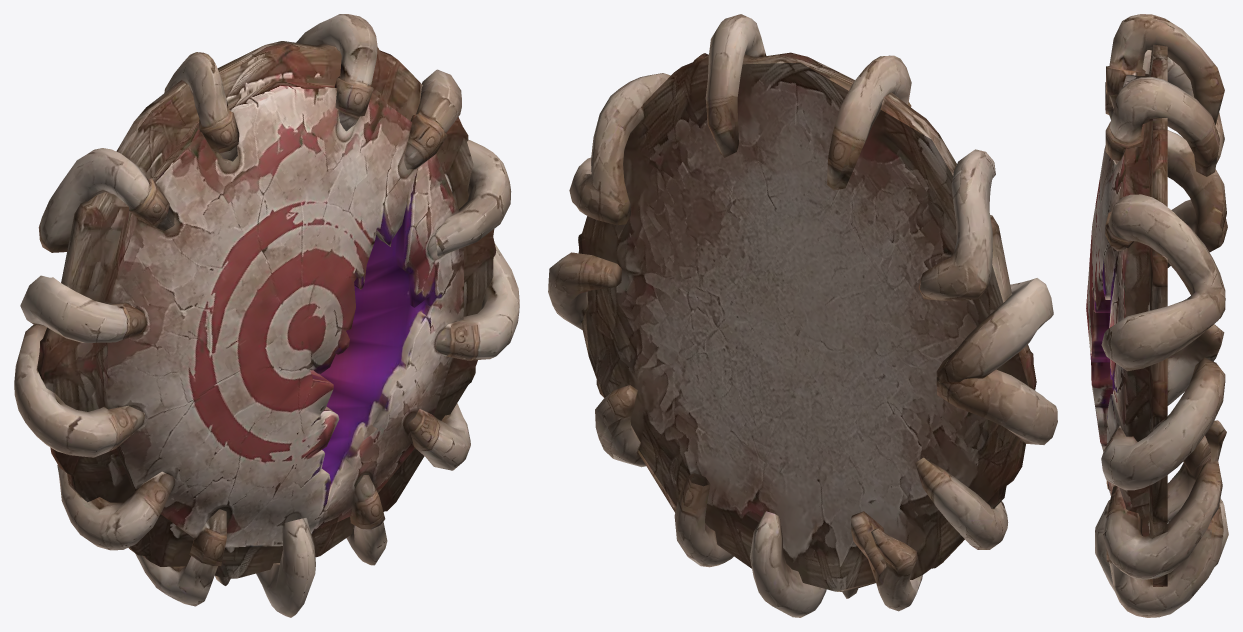
File: SM_Prop_KuiBrokenDrum.glb
3 views of the same model, side by side, from view 1: azimuth 30°, elevation 25°; view 2: azimuth 150°, elevation 25°; view 3: azimuth 270°, elevation 25° (orthographic). The views are drawn at different scales.
Visible parts, largest first — view 1: SM_Prop_KuiBrokenDrum_LOD0; view 2: SM_Prop_KuiBrokenDrum_LOD0; view 3: SM_Prop_KuiBrokenDrum_LOD0.
Boxes of the visible parts, x1=… form: SM_Prop_KuiBrokenDrum_LOD0: x1=14, y1=14, x2=519, y2=617; SM_Prop_KuiBrokenDrum_LOD0: x1=548, y1=14, x2=1057, y2=617; SM_Prop_KuiBrokenDrum_LOD0: x1=1086, y1=14, x2=1228, y2=617.
Size of what is drawn, in the model's own units: 1.94 by 2.2 by 0.5084.
Materials: 1 (1 with a texture image).
